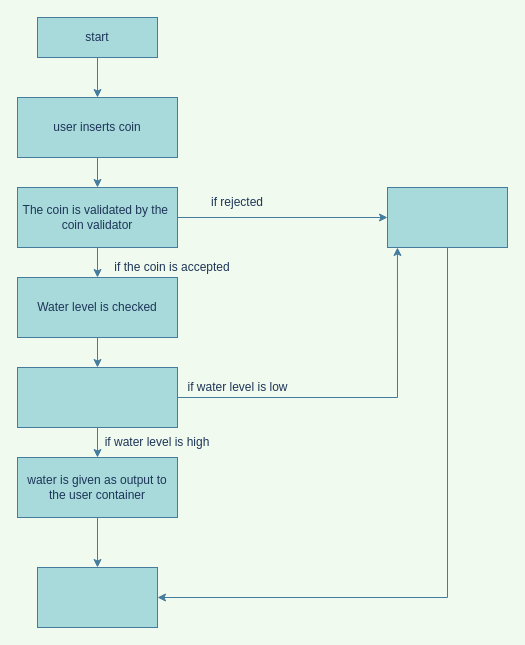
The diagram is 525 pixels wide and 645 high, and some of its shapes have lost their labels. The centre of each missing label's shape, as x and y in pixels:
"end" belongs at (x=97, y=597).
"The coin is ejected" belongs at (x=447, y=217).
"water level sensor checks whether the system watercontainer has water" belongs at (x=97, y=397).
